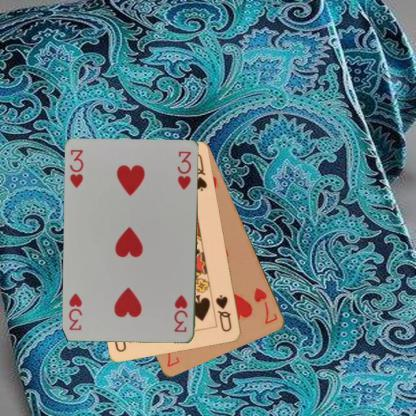3h: (172, 292, 190, 334), (67, 147, 85, 189)
7h: (251, 285, 280, 326)
Qs: (214, 292, 234, 334)
